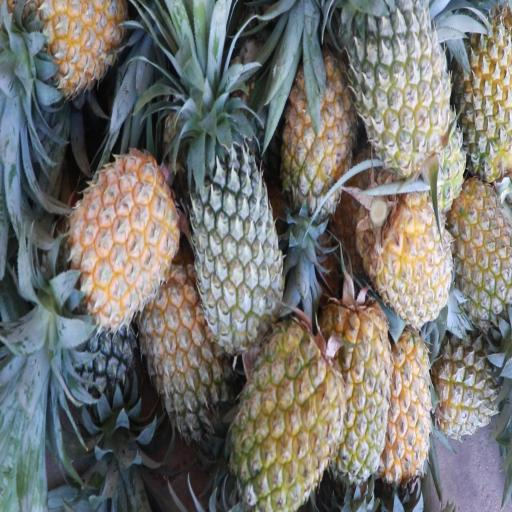------------------------------: (357, 4, 448, 174), (136, 278, 225, 437), (447, 14, 512, 170), (444, 186, 512, 318), (431, 330, 507, 438)
Pineapple - v8 v1: (234, 330, 340, 512), (73, 152, 175, 318), (322, 302, 390, 480), (273, 60, 348, 221), (372, 187, 451, 328), (24, 0, 124, 100), (385, 330, 433, 484)
